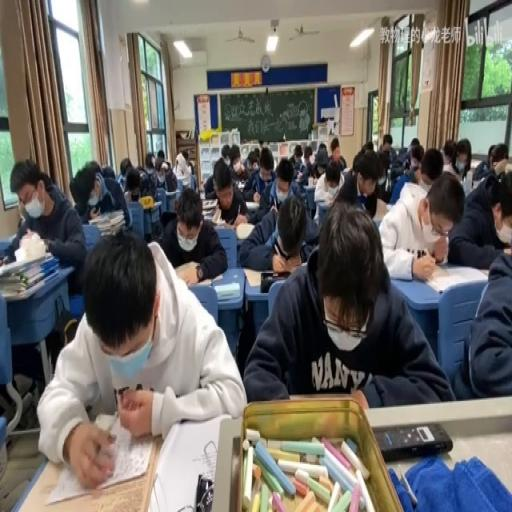calculator: (422, 262, 486, 293), (189, 270, 224, 284), (214, 282, 240, 300), (315, 199, 332, 226), (235, 222, 256, 240), (302, 183, 316, 205), (213, 219, 236, 232), (471, 175, 487, 189), (212, 205, 222, 222), (201, 196, 216, 206), (245, 199, 260, 209), (478, 266, 493, 276), (235, 179, 245, 189), (150, 199, 162, 206), (198, 188, 205, 199), (308, 176, 314, 188)
paper: (40, 228, 245, 486), (242, 200, 448, 410), (4, 158, 86, 284), (158, 185, 226, 281), (447, 165, 511, 267), (72, 159, 132, 242), (331, 149, 378, 209), (242, 148, 278, 209), (386, 144, 422, 204), (471, 142, 507, 184), (123, 158, 154, 199), (418, 146, 444, 192), (153, 156, 177, 192), (226, 144, 246, 182), (454, 138, 472, 179), (173, 151, 193, 186), (290, 142, 306, 178), (308, 147, 326, 179), (376, 148, 391, 181), (440, 138, 456, 168), (371, 196, 389, 219), (330, 135, 342, 164), (325, 168, 340, 189), (118, 158, 132, 176), (352, 152, 362, 174), (101, 164, 115, 179), (145, 152, 155, 172), (116, 170, 126, 188), (382, 135, 392, 152), (155, 149, 165, 161), (408, 138, 418, 149), (363, 141, 373, 151), (318, 142, 326, 154), (253, 148, 259, 161), (304, 149, 310, 162), (182, 151, 189, 162), (186, 162, 192, 174), (154, 160, 161, 170), (294, 150, 301, 160)
person: (373, 422, 451, 462), (194, 471, 214, 509), (260, 270, 290, 293)
